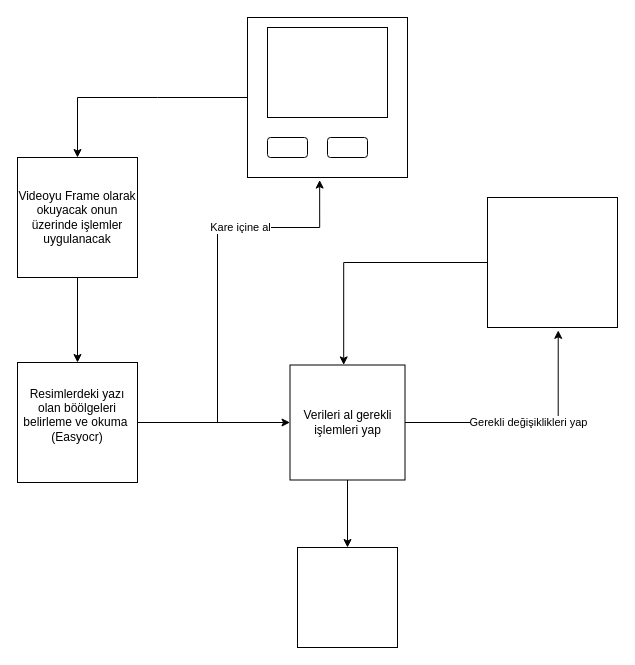
The diagram is 635 pixels wide and 665 high, and some of its shapes have lost their labels. Here are the shapes that lost their labels. From the top down, the centre of each, then its label:
the point at 552,262: Veri tabanından veri al
the point at 347,597: Arayüze yazdır
